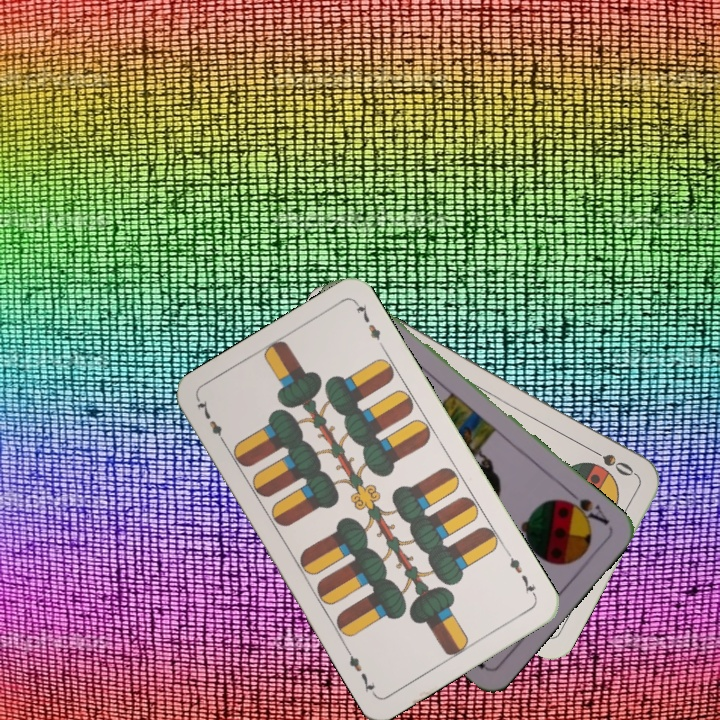E7: (503, 547, 540, 600), (193, 396, 230, 449)
SA: (557, 486, 612, 528)
SO: (584, 443, 638, 479)
